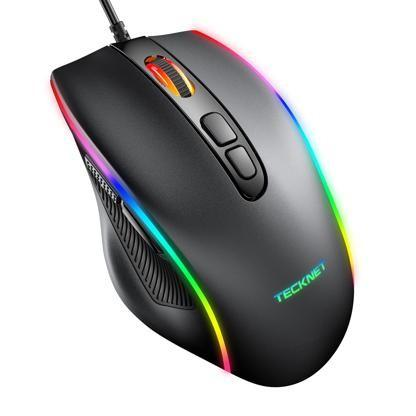not trash: (53, 27, 371, 387)
